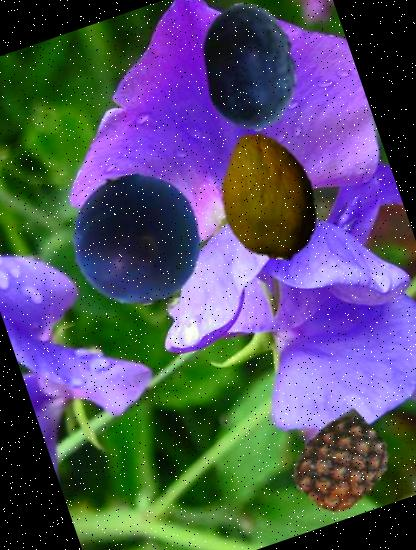Blueberry: (169, 0, 334, 149)
Papaya: (190, 116, 350, 276)
Pineapple: (280, 403, 402, 525)
Plum: (52, 156, 220, 324)
